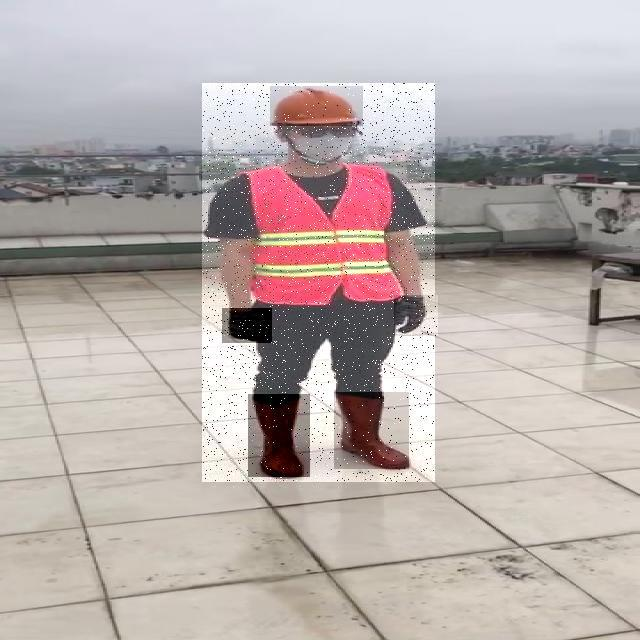Gloves: (394, 295, 438, 336), (222, 308, 272, 343)
Helmet: (270, 86, 363, 126)
Human: (202, 83, 435, 482)
Safety Boot: (334, 392, 409, 469), (248, 394, 310, 477)
Safety Vest: (247, 166, 404, 300)
